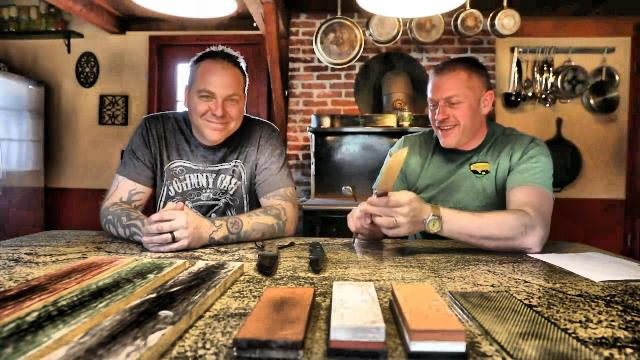knife: (349, 140, 415, 226)
